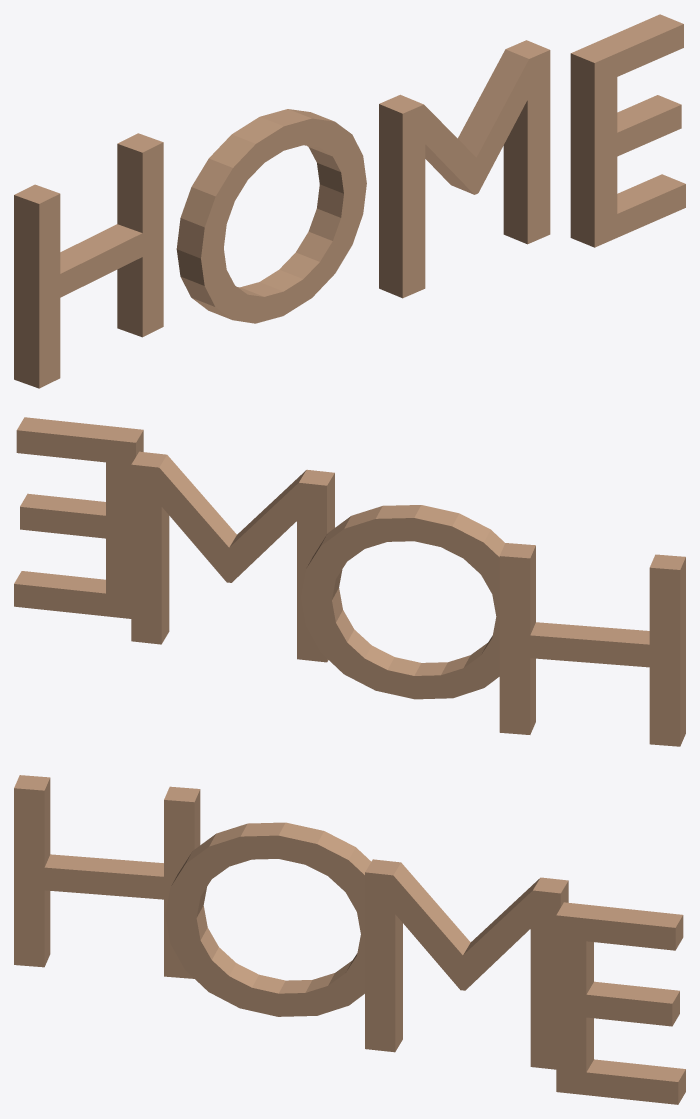
File: Home.fbx
3 renders of one model, top to bottom at view 1: azimuth 30°, elevation 25°; view 2: azimuth 150°, elevation 25°; view 3: azimuth 330°, elevation 25°, orthographic. The views are drawn at different scales.
Visible parts, largest first — view 1: Home; view 2: Home; view 3: Home.
Boxes of the visible parts, x1,y1,x2,y2 form: Home: (14, 14, 685, 388); Home: (14, 417, 685, 746); Home: (14, 775, 685, 1104).
Size of the model in its own units: 0.2129 by 0.0567 by 0.0279.
